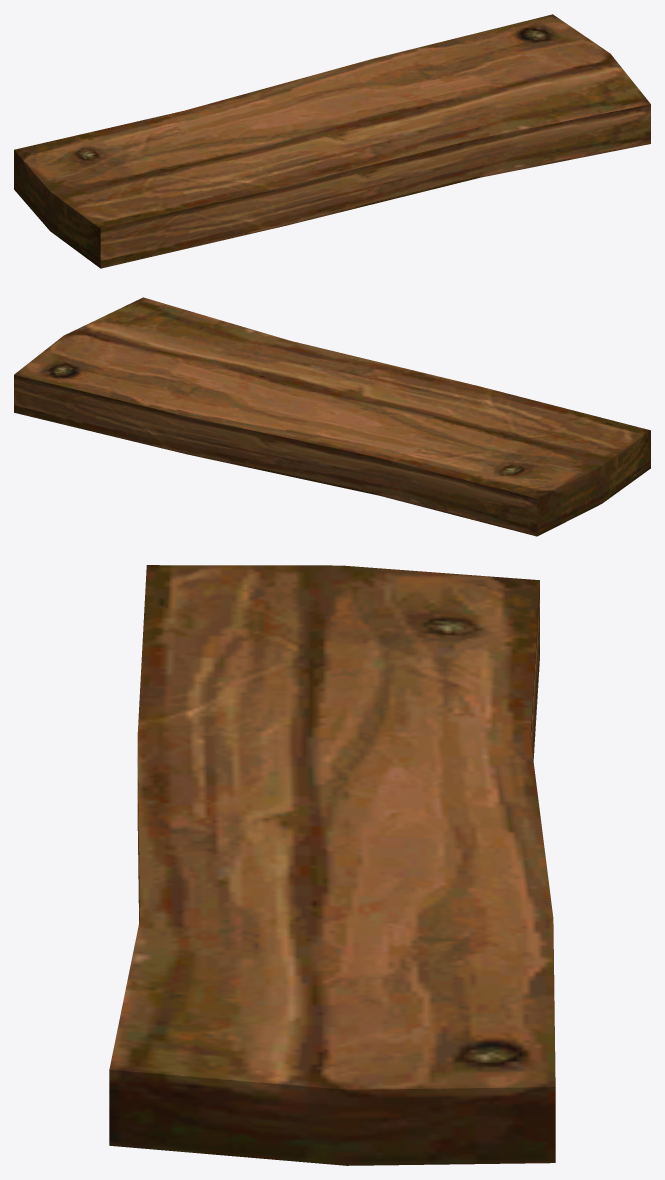
The model's file is environment_common_muban_001_a.FBX.
3 renders of one model, top to bottom at view 1: azimuth 30°, elevation 25°; view 2: azimuth 150°, elevation 25°; view 3: azimuth 270°, elevation 25°, orthographic. The views are drawn at different scales.
Parts seen in each view (by area): view 1: environment_common_muban_001_a; view 2: environment_common_muban_001_a; view 3: environment_common_muban_001_a.
Part boxes in pixels (x1,y1,x2,y2): environment_common_muban_001_a: [14, 14, 650, 268]; environment_common_muban_001_a: [14, 297, 650, 536]; environment_common_muban_001_a: [109, 565, 555, 1165].
Size of the model in its own units: 350 by 23.67 by 126.
